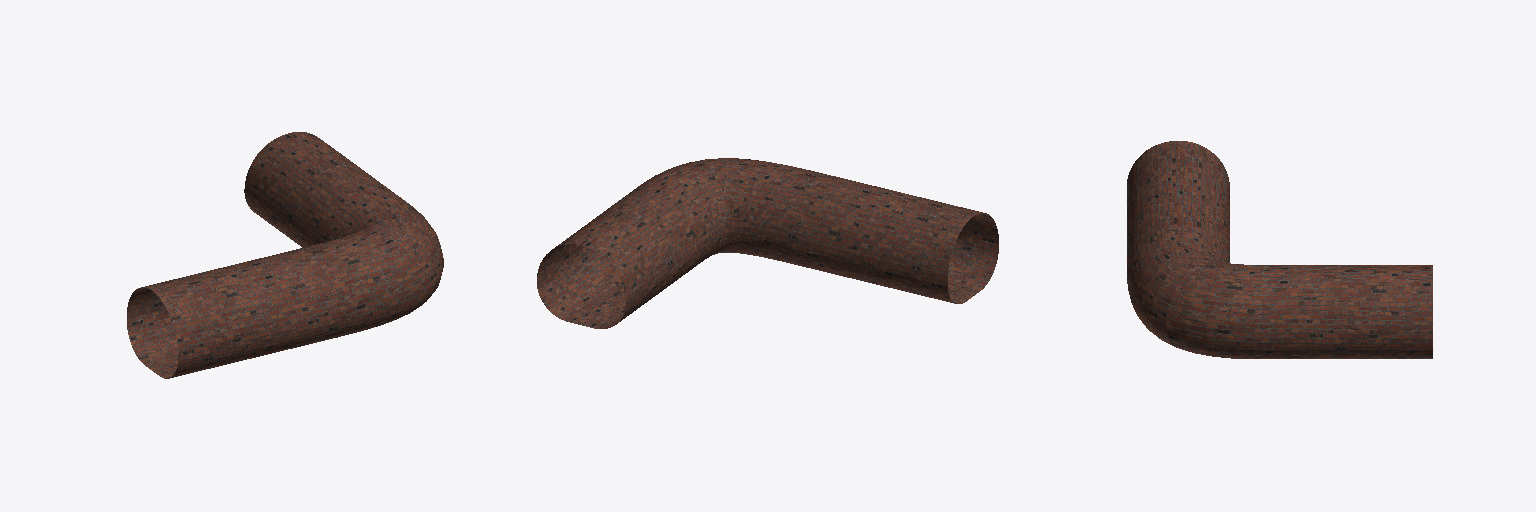
The picture shows the model from 3 angles: view 1: azimuth 30°, elevation 25°; view 2: azimuth 150°, elevation 25°; view 3: azimuth 270°, elevation 25°; orthographic projection.
Parts seen in each view (by area): view 1: kanal_pravi_kot_CUBezierCurve.002; view 2: kanal_pravi_kot_CUBezierCurve.002; view 3: kanal_pravi_kot_CUBezierCurve.002.
Boxes of the visible parts, x1,y1,x2,y2 form: kanal_pravi_kot_CUBezierCurve.002: [127, 132, 443, 378]; kanal_pravi_kot_CUBezierCurve.002: [537, 158, 998, 328]; kanal_pravi_kot_CUBezierCurve.002: [1127, 141, 1432, 358].
Size of the model in its own units: 13.82 by 3.42 by 11.88.
1 materials, 1 textured.